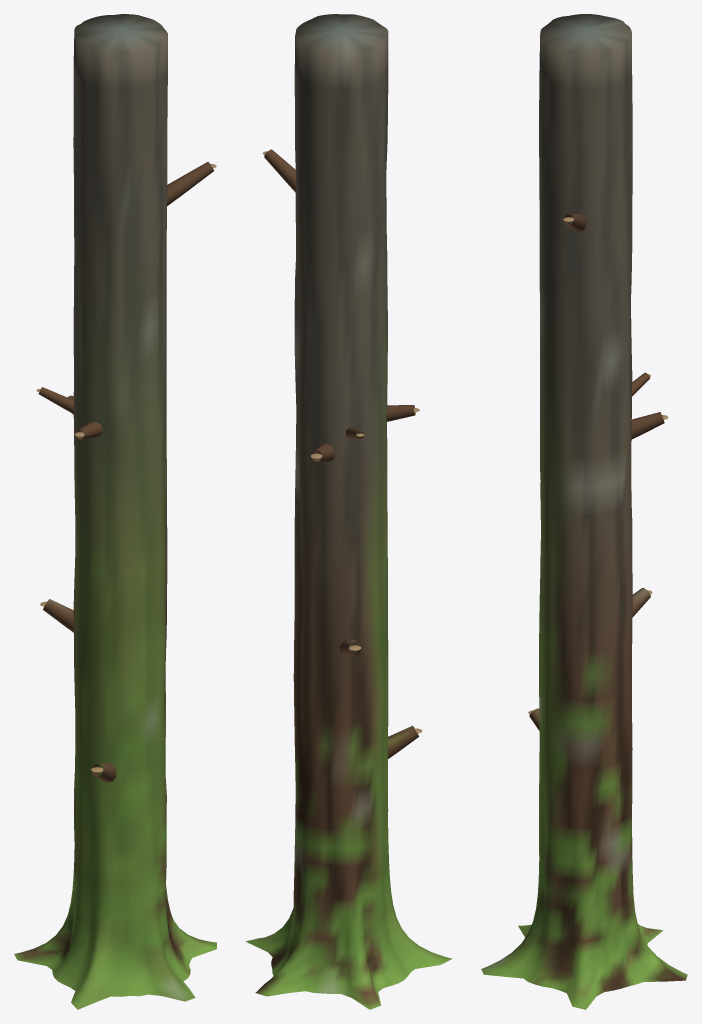
The model's file is BgTrunk_A.fbx.
3 views of the same model, side by side, from view 1: azimuth 30°, elevation 25°; view 2: azimuth 150°, elevation 25°; view 3: azimuth 270°, elevation 25° (orthographic).
Parts seen in each view (by area): view 1: BgTrunk_A; view 2: BgTrunk_A; view 3: BgTrunk_A.
Part boxes in pixels (box(x1,y1,x2,y2)): BgTrunk_A: box(14, 14, 216, 1009); BgTrunk_A: box(245, 14, 452, 1009); BgTrunk_A: box(481, 14, 687, 1009).
Bounding box in the file's own units: 47.33 × 244 × 48.94.
